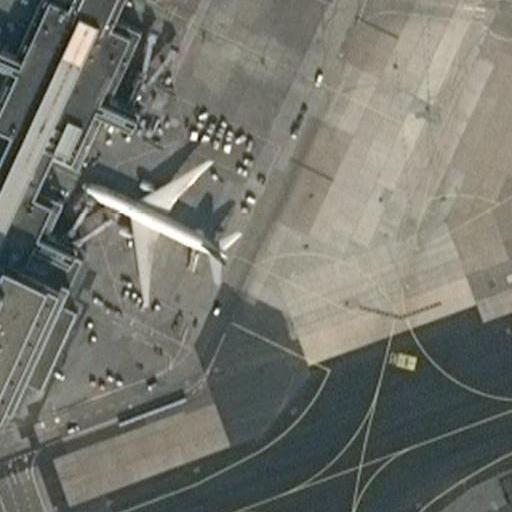Aircraft: (76, 147, 252, 310)
